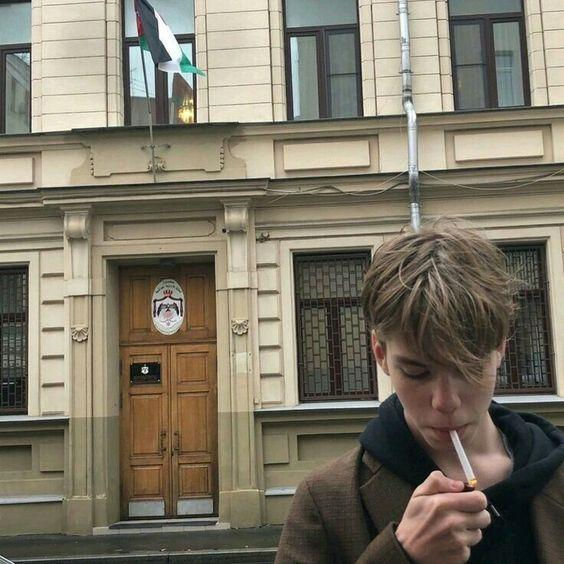cigarette: (449, 430, 477, 487)
